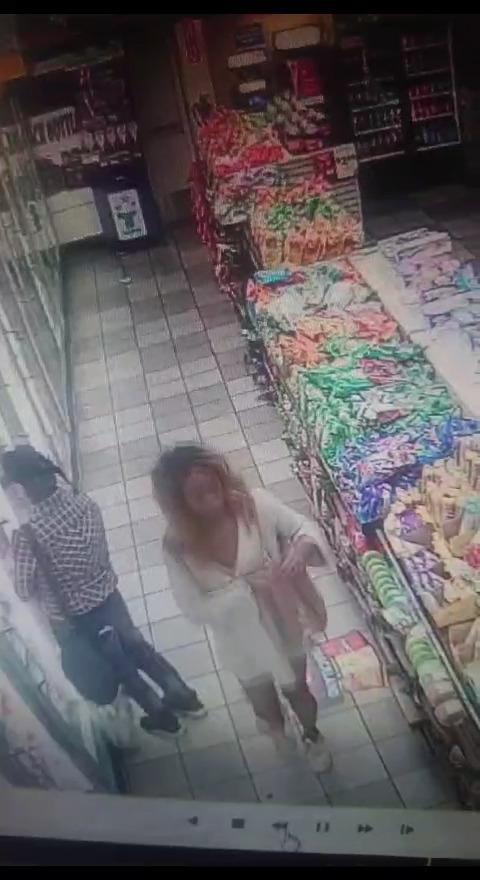Normal: (0, 448, 187, 776)
shoplifting: (149, 417, 325, 737)
